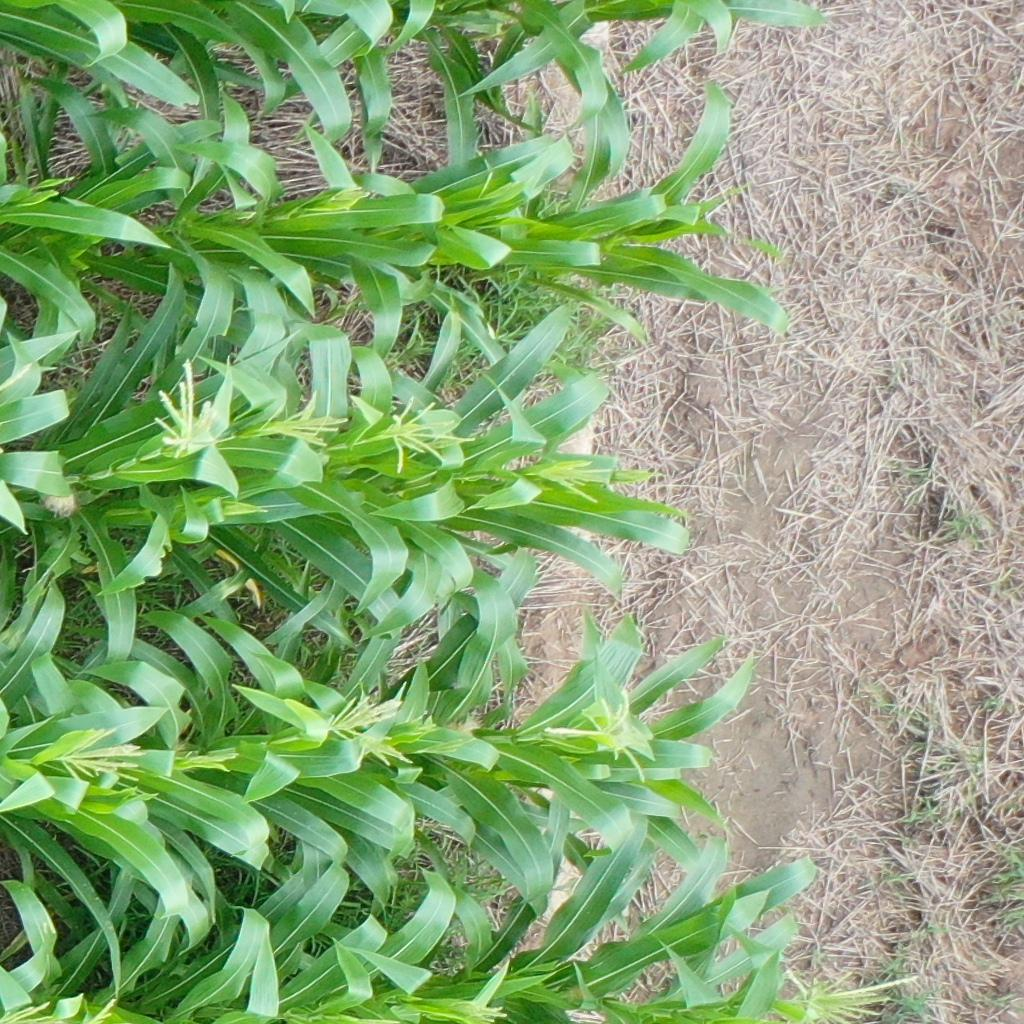Tassel: (539, 683, 654, 782), (783, 959, 922, 1022), (149, 357, 228, 459), (377, 396, 475, 471), (310, 675, 400, 746), (51, 721, 145, 787), (262, 393, 348, 449), (530, 451, 610, 509), (422, 994, 512, 1024), (179, 745, 241, 779), (1, 998, 67, 1024), (473, 171, 521, 206), (402, 702, 444, 739), (364, 742, 415, 771), (418, 736, 479, 759), (325, 189, 379, 210), (80, 995, 118, 1024)
